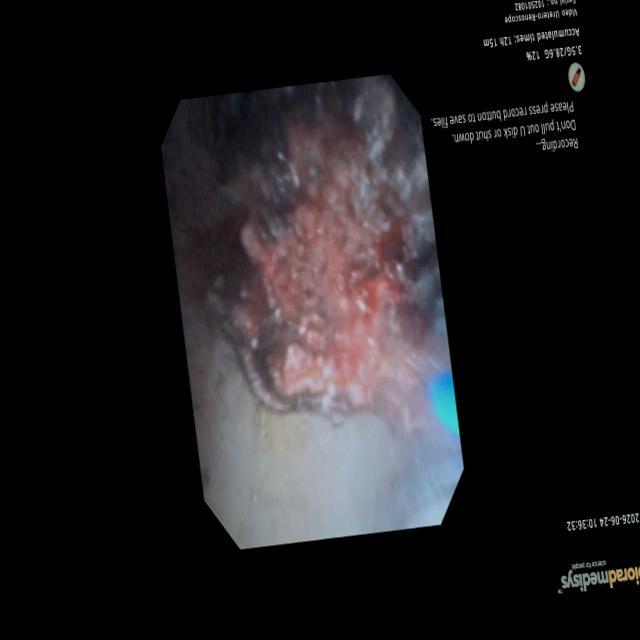stone-new: (202, 76, 450, 430)
